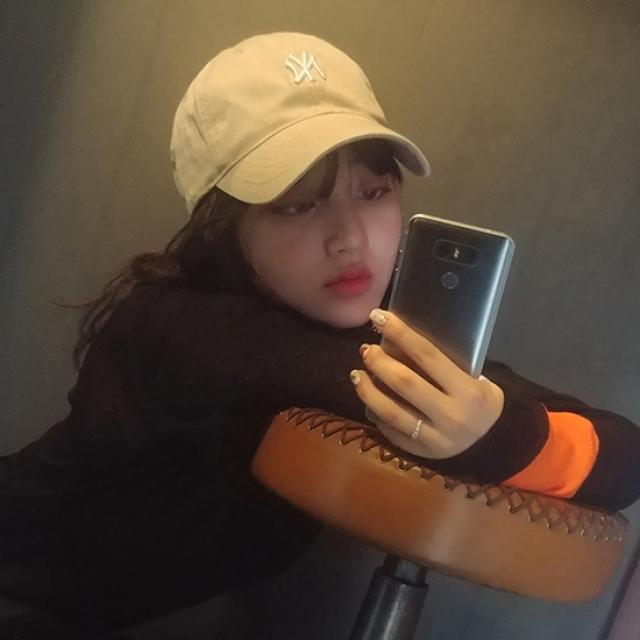phone: (366, 213, 516, 440)
